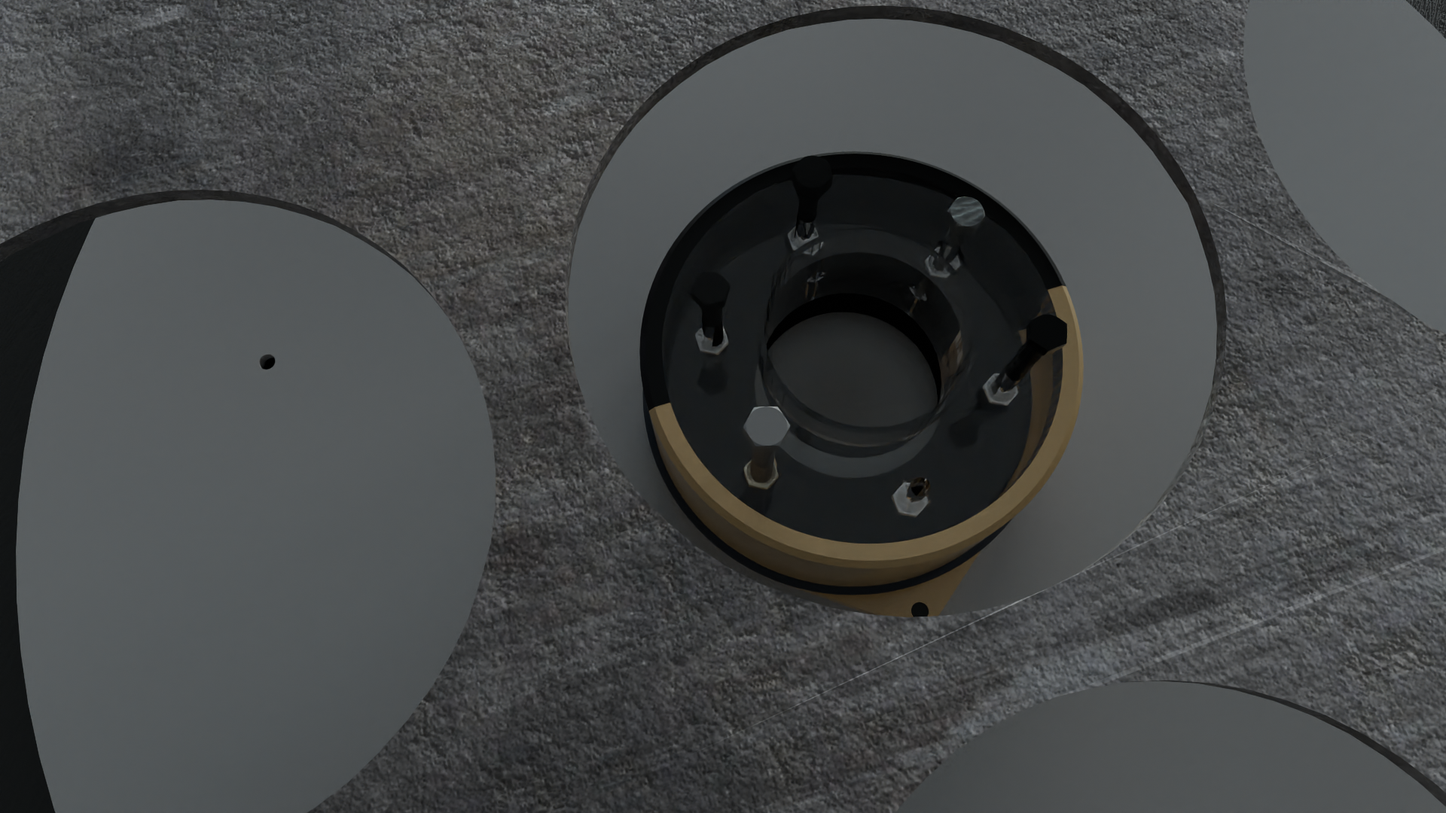bolt: (743, 406, 790, 446), (792, 156, 833, 192), (1030, 312, 1067, 351), (691, 271, 730, 306), (947, 196, 985, 230)
